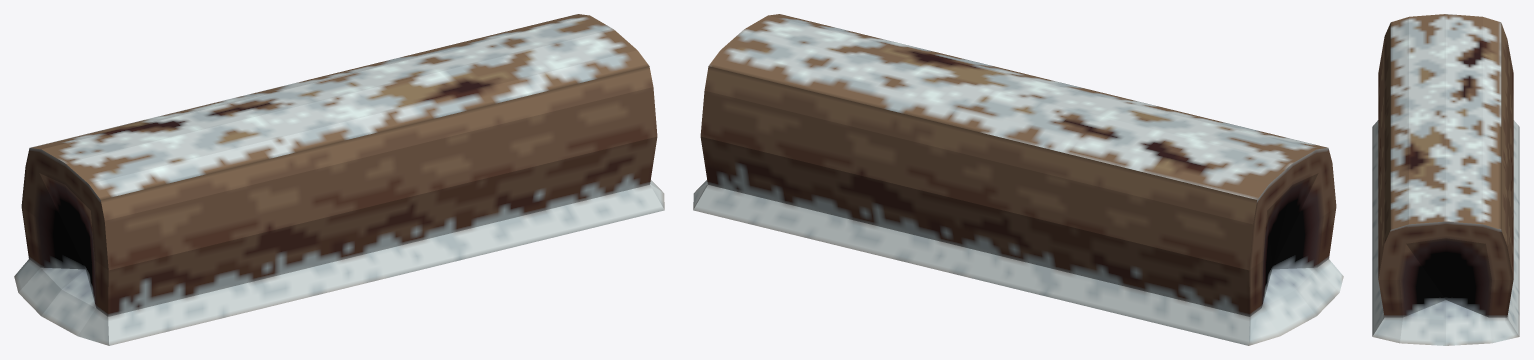
The model's file is long_tree.fbx.
3 views of the same model, side by side, from view 1: azimuth 30°, elevation 25°; view 2: azimuth 150°, elevation 25°; view 3: azimuth 270°, elevation 25° (orthographic). The views are drawn at different scales.
Visible parts, largest first — view 1: cube; view 2: cube; view 3: cube.
Boxes of the visible parts, x1,y1,x2,y2 form: cube: (14, 14, 664, 345); cube: (693, 14, 1343, 345); cube: (1372, 14, 1519, 345).
Bounding box in the file's own units: 1094 × 256 × 300.
Materials: 1 (1 with a texture image).
